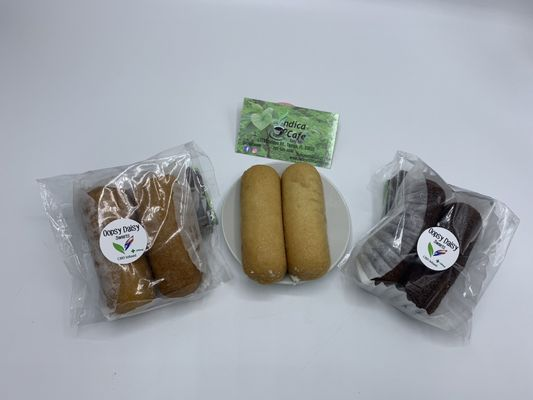burger: (282, 162, 332, 282), (240, 164, 288, 285)
